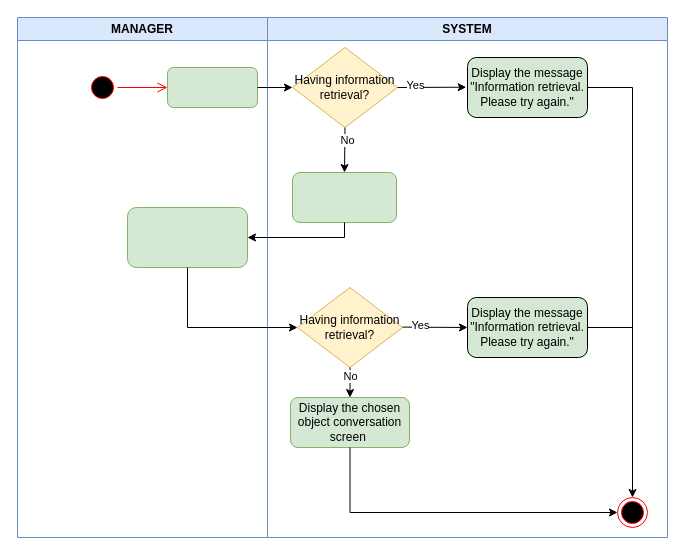
Some shapes in this 685 by 555 pixel diagram are drawn without their labels. Here are the shapes that lost their labels. From the top down, the centre of each, then its label:
the point at 212,87: Click on button "Phòng trò chuyện"
the point at 344,197: Display the latest conversation screen
the point at 187,237: Choose the object to start chat
